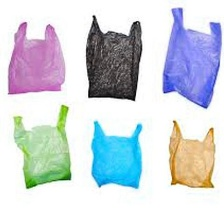plastic_bag: (156, 4, 224, 112), (79, 9, 148, 106), (8, 103, 77, 194), (0, 18, 73, 100), (87, 114, 153, 194), (161, 114, 221, 189)
